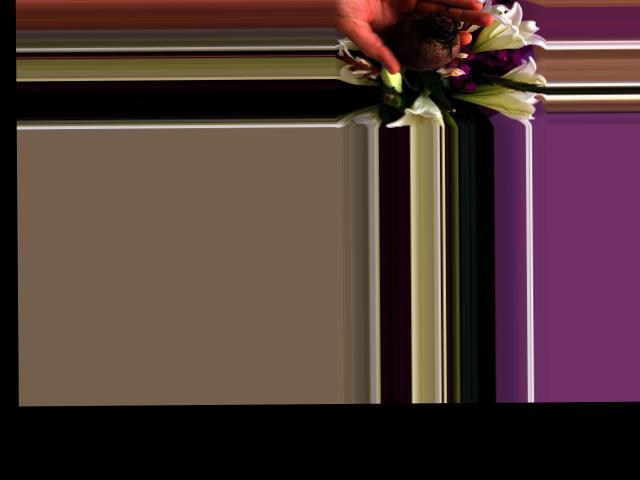beet: (386, 12, 461, 88)
